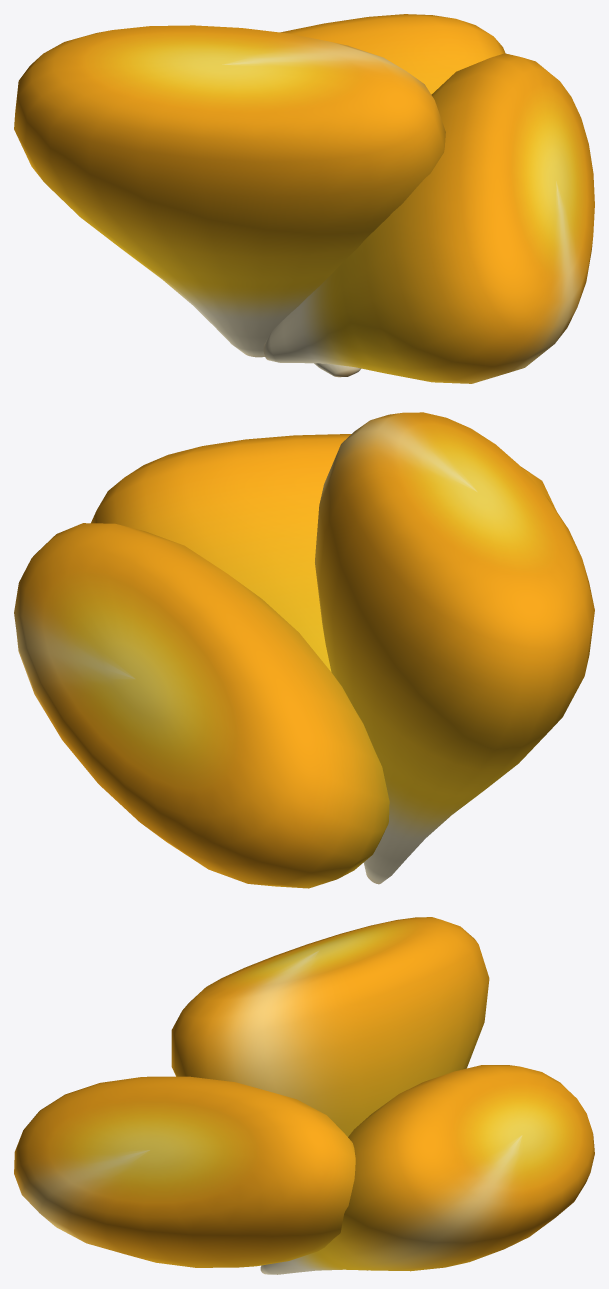
Rendered from CornKernels.glb.
3 renders of one model, top to bottom at view 1: azimuth 30°, elevation 25°; view 2: azimuth 150°, elevation 25°; view 3: azimuth 270°, elevation 25°, orthographic. The views are drawn at different scales.
Visible parts, largest first — view 1: CornKernels; view 2: CornKernels; view 3: CornKernels.
Boxes of the visible parts, x1,y1,x2,y2 form: CornKernels: [14, 14, 594, 383]; CornKernels: [14, 412, 594, 888]; CornKernels: [14, 917, 594, 1274].
Size of the model in its own units: 0.4628 by 0.3118 by 0.5488.
Materials: 1 (1 with a texture image).
